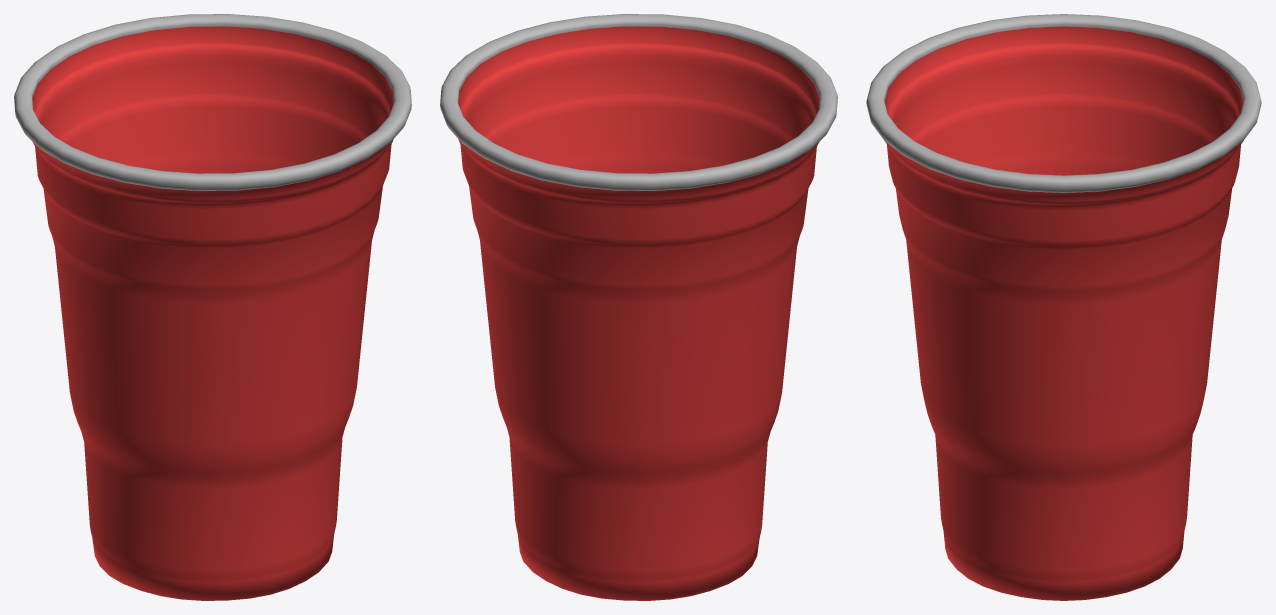
File: paper-cup_3.glb
3 views of the same model, side by side, from view 1: azimuth 30°, elevation 25°; view 2: azimuth 150°, elevation 25°; view 3: azimuth 270°, elevation 25° (orthographic).
Visible parts, largest first — view 1: solocup; view 2: solocup; view 3: solocup.
Part boxes in pixels (x1,y1,x2,y2): solocup: (14, 14, 411, 600); solocup: (440, 14, 837, 600); solocup: (866, 14, 1261, 600).
Size of the model in its own units: 0.0974 by 0.1226 by 0.0963.
Materials: 1 (1 with a texture image).
